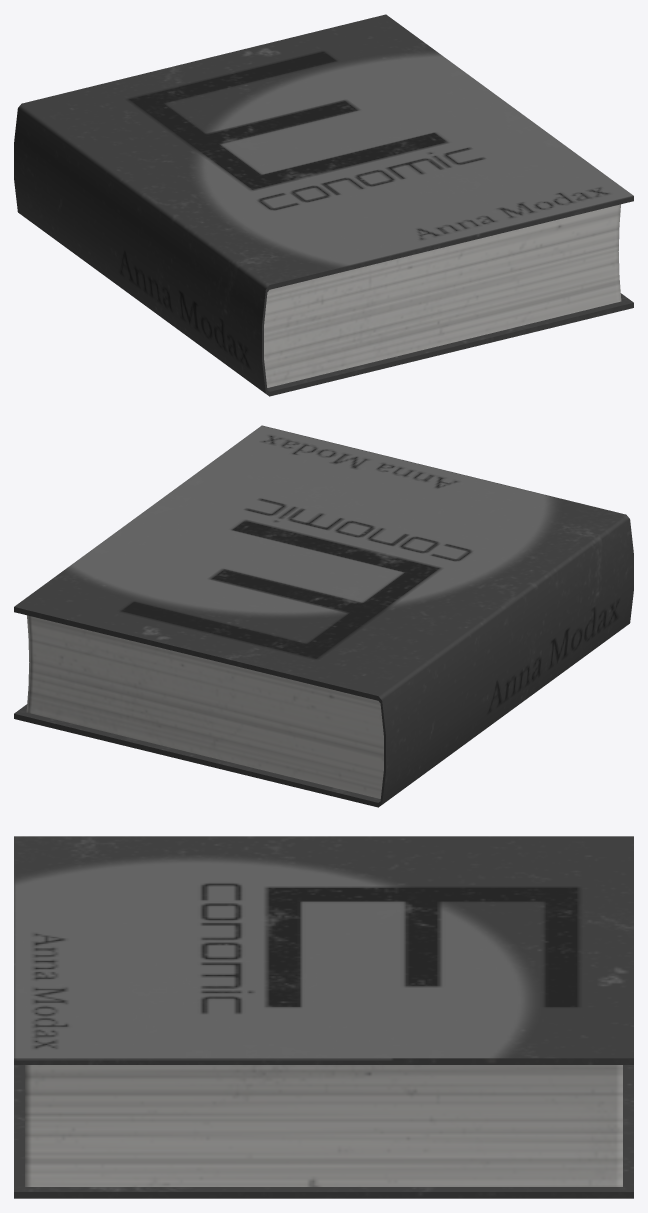
File: SM_BookC.fbx
3 renders of one model, top to bottom at view 1: azimuth 30°, elevation 25°; view 2: azimuth 150°, elevation 25°; view 3: azimuth 270°, elevation 25°, orthographic. The views are drawn at different scales.
Visible parts, largest first — view 1: SM_BookC_LOD0; view 2: SM_BookC_LOD0; view 3: SM_BookC_LOD0.
Boxes of the visible parts, bbox=[...] form: SM_BookC_LOD0: bbox=[14, 14, 633, 396]; SM_BookC_LOD0: bbox=[14, 425, 633, 807]; SM_BookC_LOD0: bbox=[14, 836, 633, 1198].
Size of the model in its own units: 15.47 by 17.86 by 4.45.
Materials: 1 (1 with a texture image).
